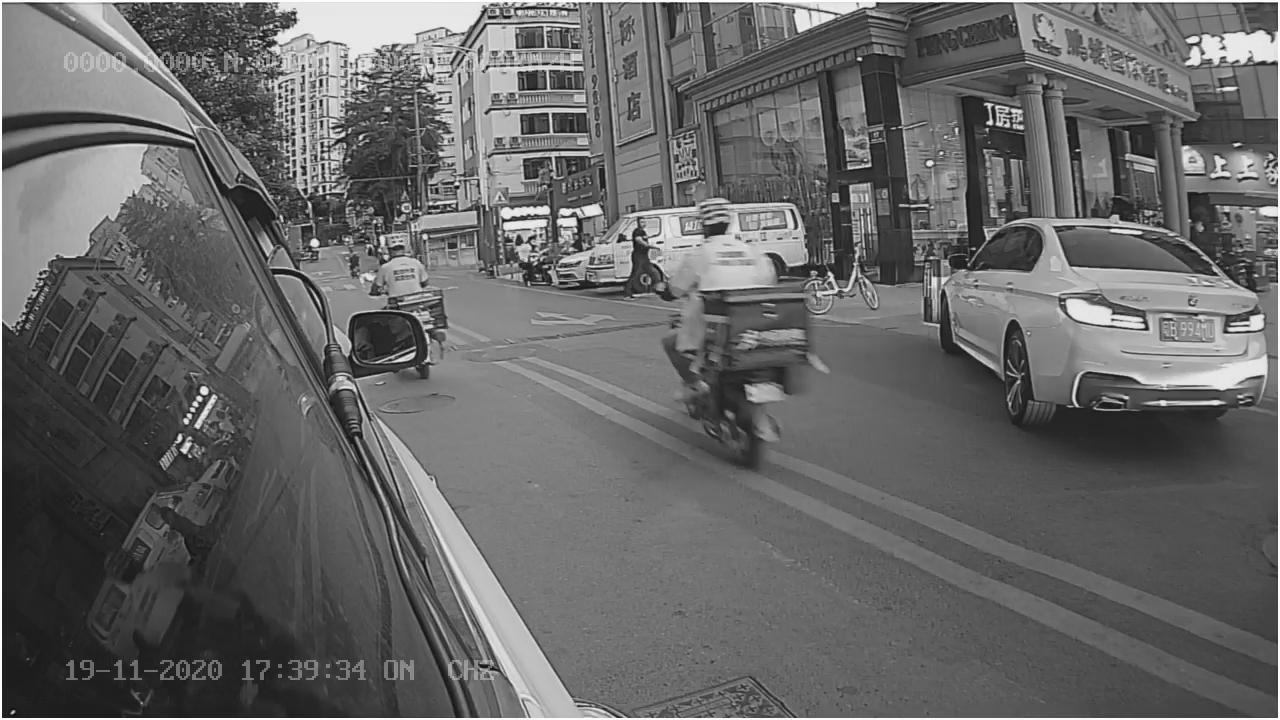person: (670, 202, 771, 324)
